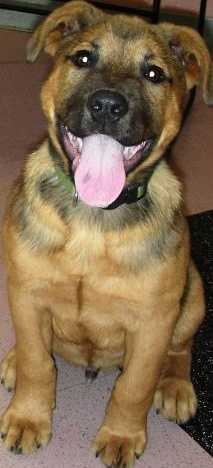Dog: (0, 2, 212, 441)
